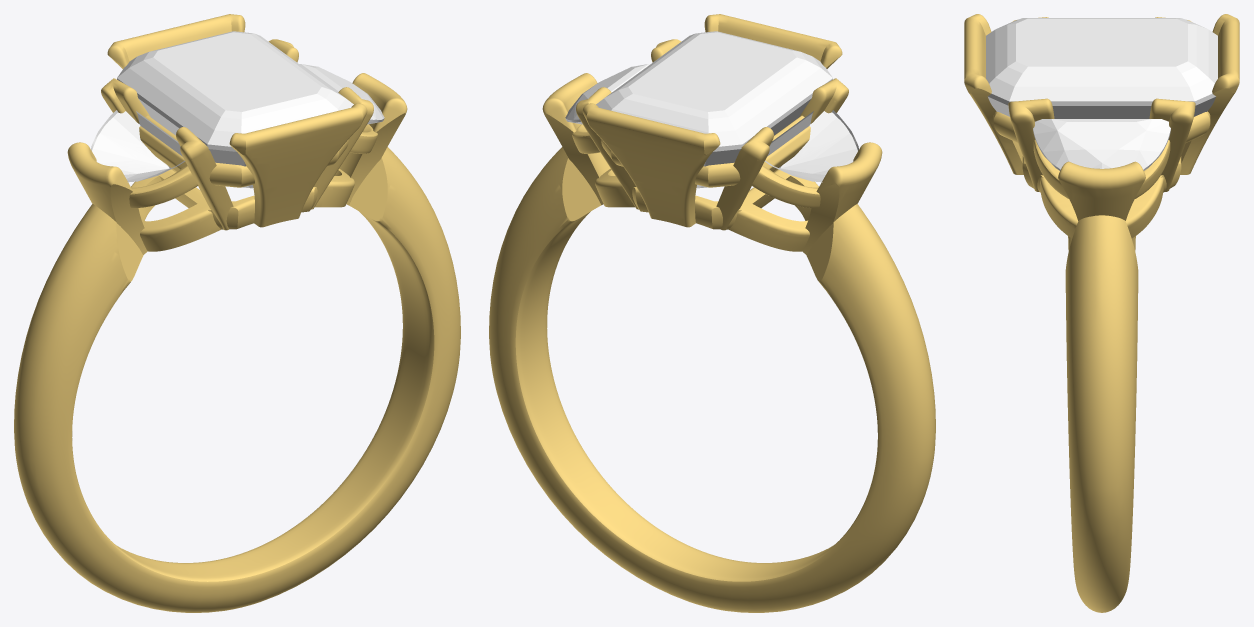
The model's file is PaulaH_webgi.glb.
The picture shows the model from 3 angles, left to right: view 1: azimuth 30°, elevation 25°; view 2: azimuth 150°, elevation 25°; view 3: azimuth 270°, elevation 25°; orthographic projection. The views are drawn at different scales.
Visible parts, largest first — view 1: Paula_YG_for_3d_model, Paula_sapphrie_for_3d_model, Paula_dia_for_3d_model, Paula_dia_2_for_3d_model; view 2: Paula_YG_for_3d_model, Paula_sapphrie_for_3d_model, Paula_dia_for_3d_model, Paula_dia_2_for_3d_model; view 3: Paula_YG_for_3d_model, Paula_sapphrie_for_3d_model, Paula_dia_2_for_3d_model.
Part boxes in pixels (x1=…): Paula_YG_for_3d_model: x1=14, y1=14, x2=460, y2=612; Paula_sapphrie_for_3d_model: x1=117, y1=31, x2=353, y2=188; Paula_dia_for_3d_model: x1=91, y1=110, x2=184, y2=182; Paula_dia_2_for_3d_model: x1=299, y1=64, x2=384, y2=124; Paula_YG_for_3d_model: x1=489, y1=14, x2=935, y2=612; Paula_sapphrie_for_3d_model: x1=596, y1=31, x2=832, y2=188; Paula_dia_for_3d_model: x1=764, y1=110, x2=858, y2=182; Paula_dia_2_for_3d_model: x1=565, y1=64, x2=650, y2=124; Paula_YG_for_3d_model: x1=964, y1=14, x2=1239, y2=612; Paula_sapphrie_for_3d_model: x1=986, y1=18, x2=1217, y2=118; Paula_dia_2_for_3d_model: x1=1033, y1=119, x2=1170, y2=170.
Size of the model in its own units: 2.47 by 2.86 by 1.31.
